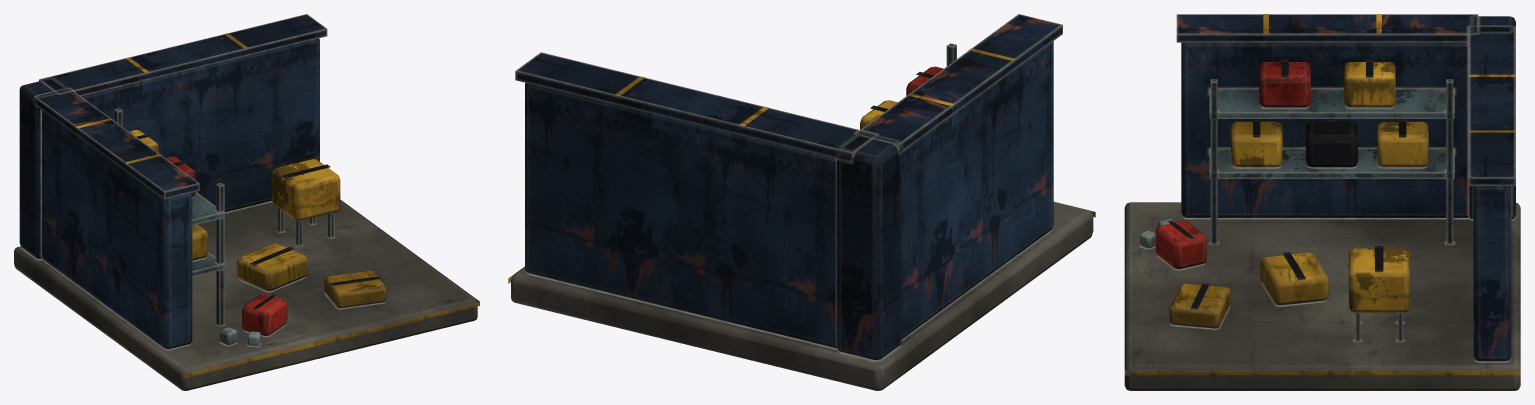
The model's file is basic_storage.glb.
3 renders of one model, left to right at view 1: azimuth 30°, elevation 25°; view 2: azimuth 150°, elevation 25°; view 3: azimuth 270°, elevation 25°, orthographic. The views are drawn at different scales.
Visible parts, largest first — view 1: te_basic_storage; view 2: te_basic_storage; view 3: te_basic_storage.
Boxes of the visible parts, box(x1,y1,x2,y2) form: te_basic_storage: box(14, 14, 479, 390); te_basic_storage: box(508, 14, 1095, 390); te_basic_storage: box(1124, 14, 1520, 390).
Size of the model in its own units: 0.8406 by 0.5006 by 0.8406.
Materials: 1 (1 with a texture image).
